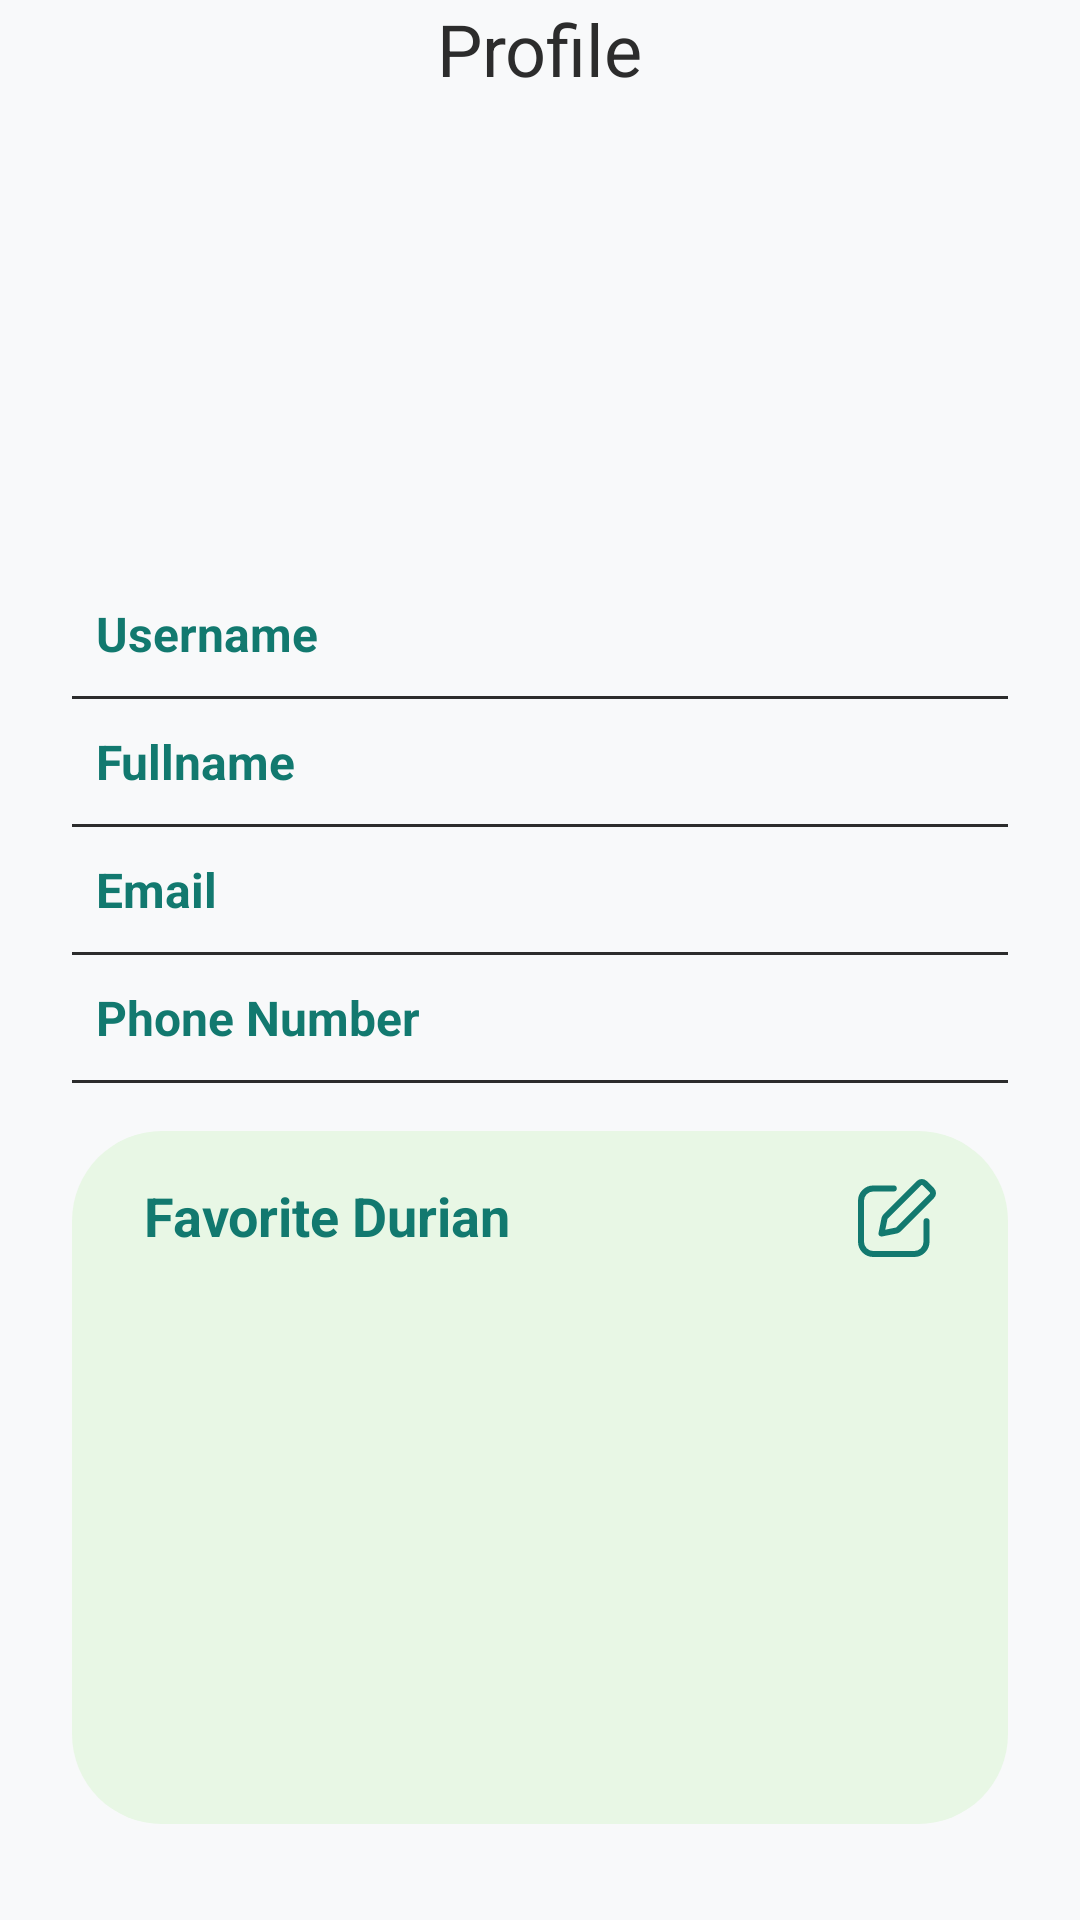

Named icons in this screenshot (1080px x 1920px) and their bounding boxes, bbox=(x1, y1, x2, y2):
edit: bbox=(858, 1179, 936, 1257)
